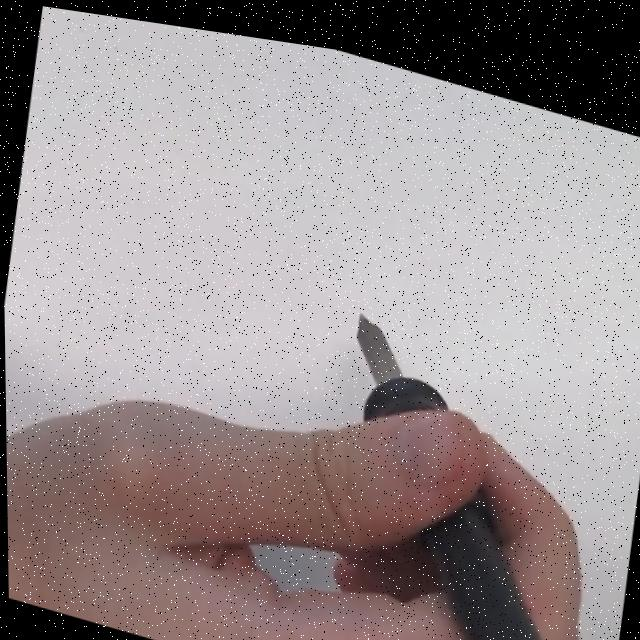soldering_iron: (304, 307, 640, 640)
